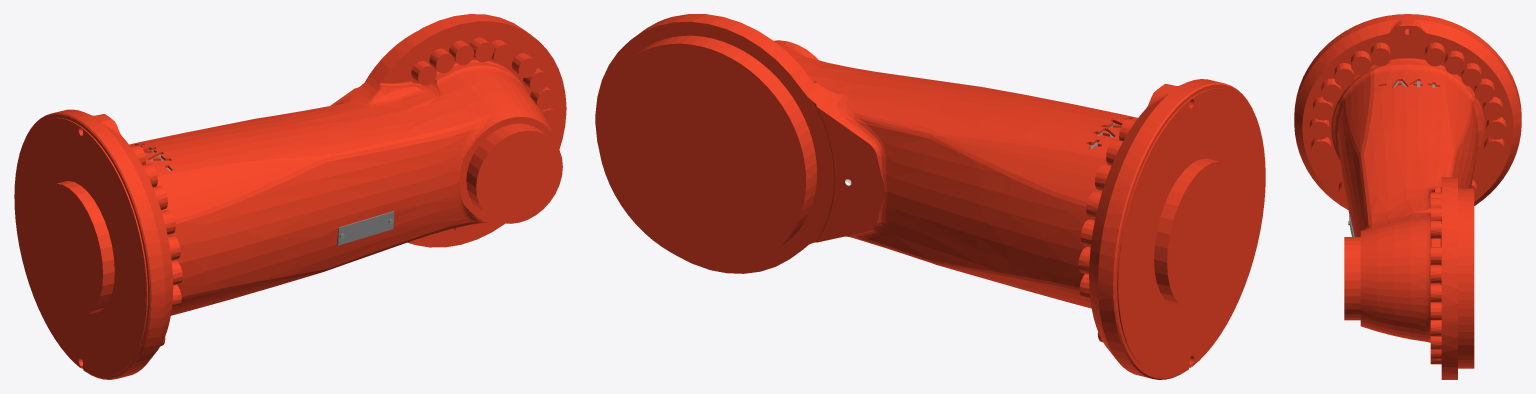
3 views of the same model, side by side, from view 1: azimuth 30°, elevation 25°; view 2: azimuth 150°, elevation 25°; view 3: azimuth 270°, elevation 25° (orthographic). The views are drawn at different scales.
Visible parts, largest first — view 1: link_4; view 2: link_4; view 3: link_4.
Boxes of the visible parts, bbox=[...] form: link_4: bbox=[14, 14, 566, 379]; link_4: bbox=[595, 14, 1265, 379]; link_4: bbox=[1294, 14, 1521, 379].
Bounding box in the file's own units: 0.4416 × 0.202 × 0.202.
